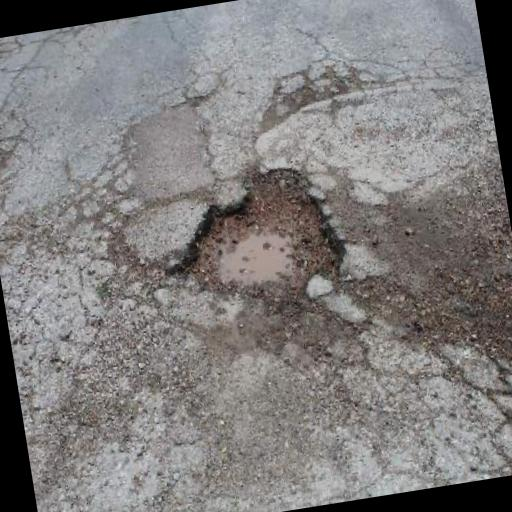pothole: (153, 149, 359, 329)
